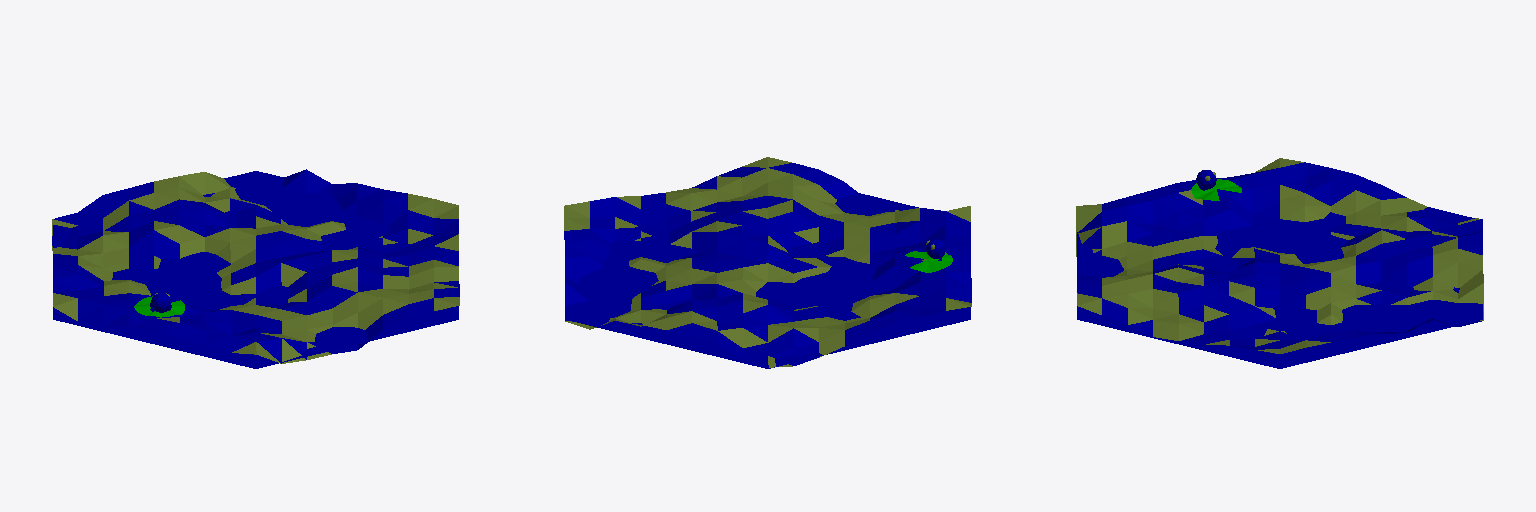
Rendered from swamp2.obj.
3 renders of one model, left to right at view 1: azimuth 30°, elevation 25°; view 2: azimuth 150°, elevation 25°; view 3: azimuth 270°, elevation 25°, orthographic.
Visible parts, largest first — view 1: Circle; view 2: Circle; view 3: Circle.
Part boxes in pixels (x1,y1,x2,y2): Circle: (52,169,459,368); Circle: (564,157,971,368); Circle: (1076,158,1483,368).
Size of the model in its own units: 2 by 0.2046 by 1.73.